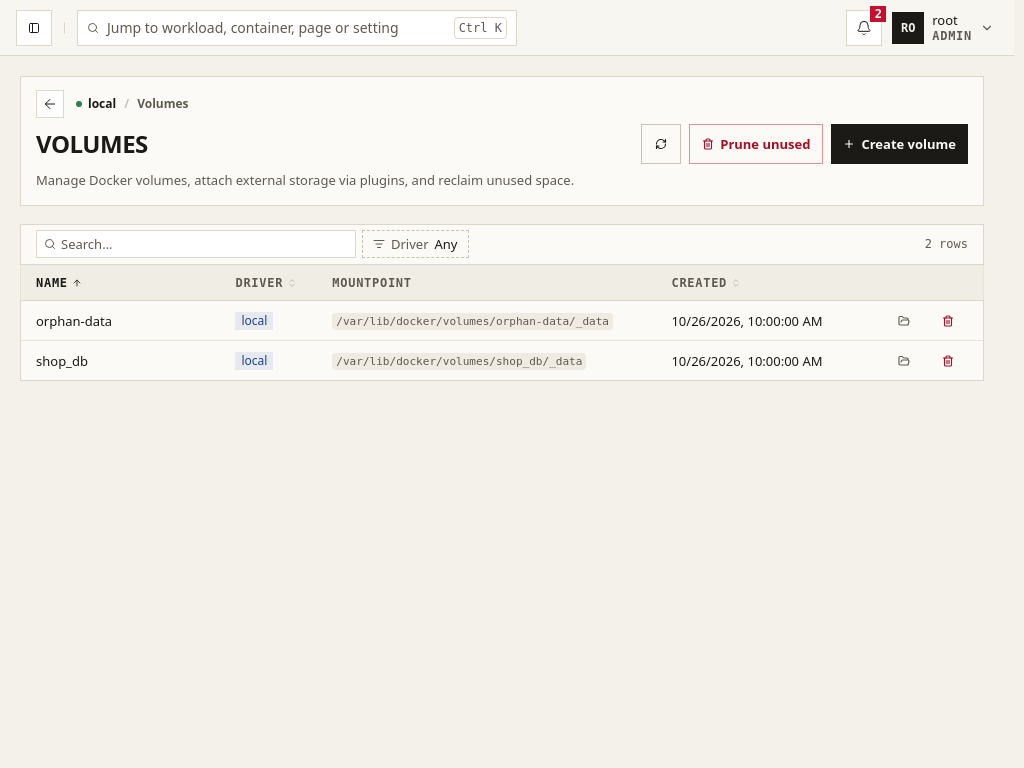
Test: volumes page › removes a volume after confirmation
The image size is (1024, 768).
Click the button named "remove volume orphan-data" at (948, 321), box [928,301,968,341]
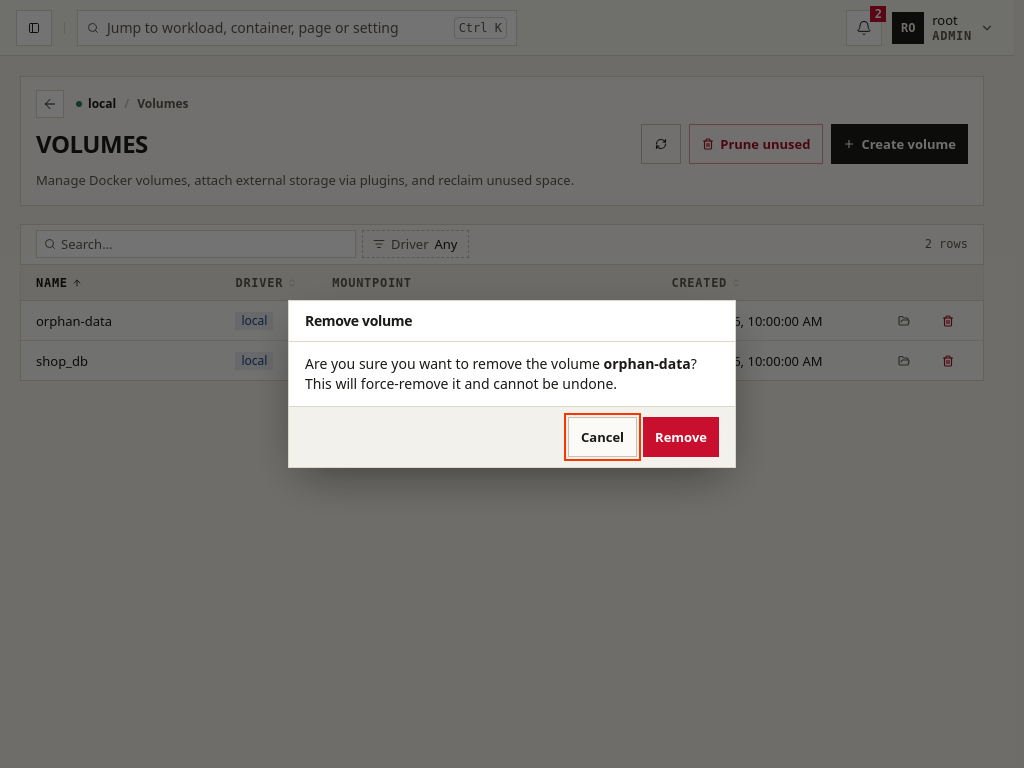
Click the button "Remove" at (681, 437), box [643,417,719,457]
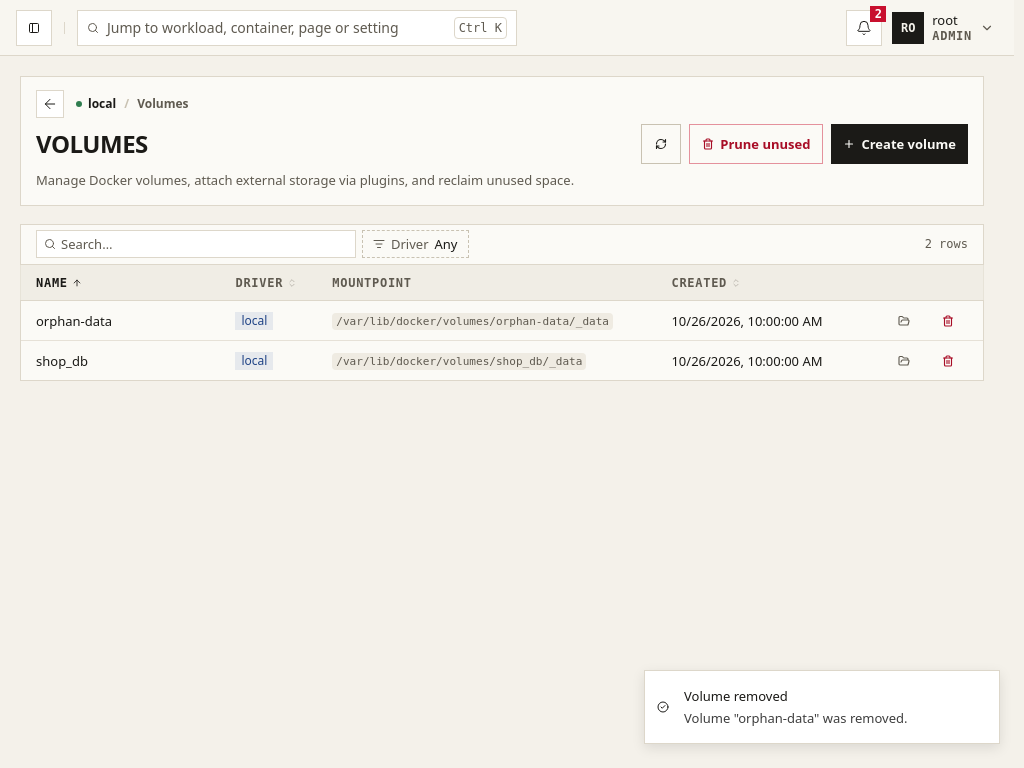
Expected: the text "Volume removed" is shown, [684,687,788,705]
